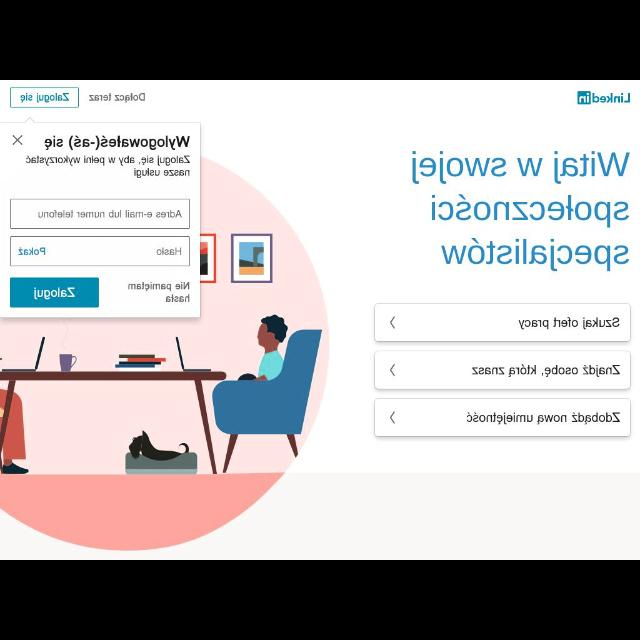backgroundimage: (1, 154, 329, 550)
icon: (12, 134, 24, 146), (388, 412, 396, 424), (389, 316, 396, 328), (390, 363, 396, 377)
image: (576, 92, 630, 105)
input: (10, 236, 188, 268), (10, 199, 190, 229)
panel: (1, 119, 200, 318)
text: (410, 150, 630, 272), (25, 156, 191, 178), (466, 410, 620, 426), (43, 135, 191, 151), (472, 362, 620, 378), (128, 281, 190, 303), (516, 318, 620, 330), (36, 210, 182, 218), (88, 92, 146, 104), (32, 286, 76, 300), (19, 92, 70, 104), (18, 246, 46, 256), (156, 247, 182, 257)
textbutton: (374, 303, 630, 341), (374, 352, 630, 390), (374, 398, 630, 436), (9, 278, 99, 308), (10, 87, 78, 107)
